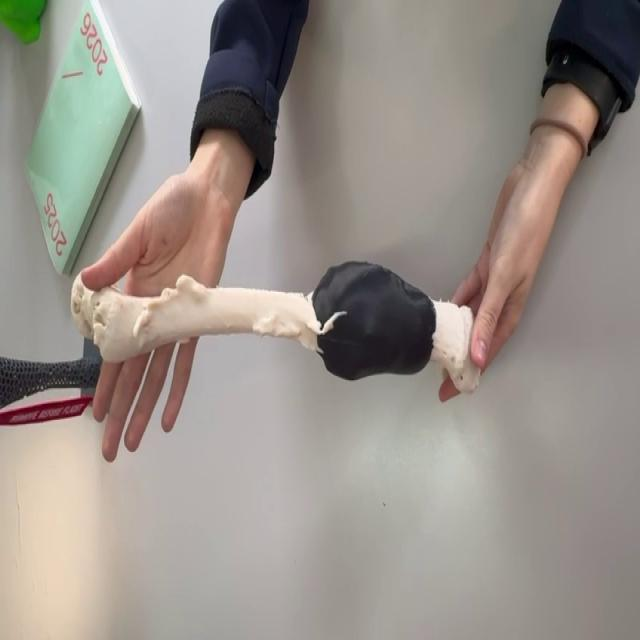bones: (71, 262, 479, 393)
